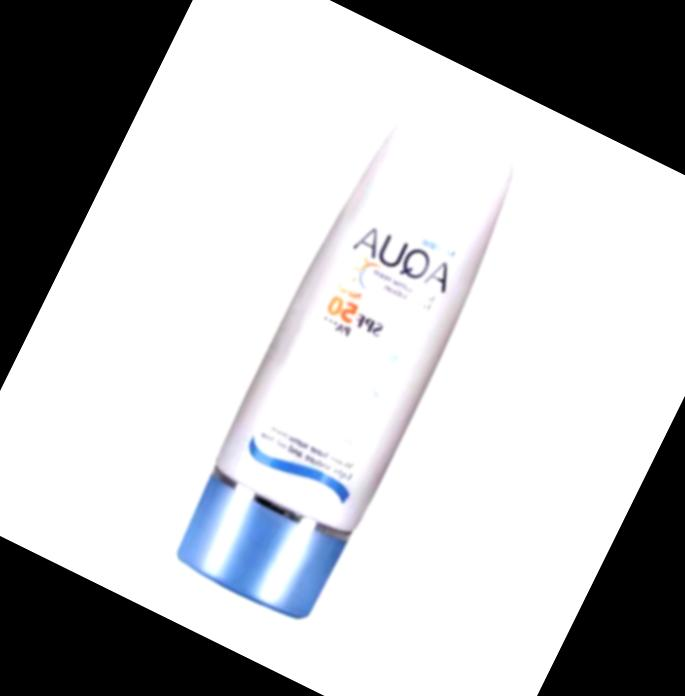cosmetic: (163, 93, 536, 627)
